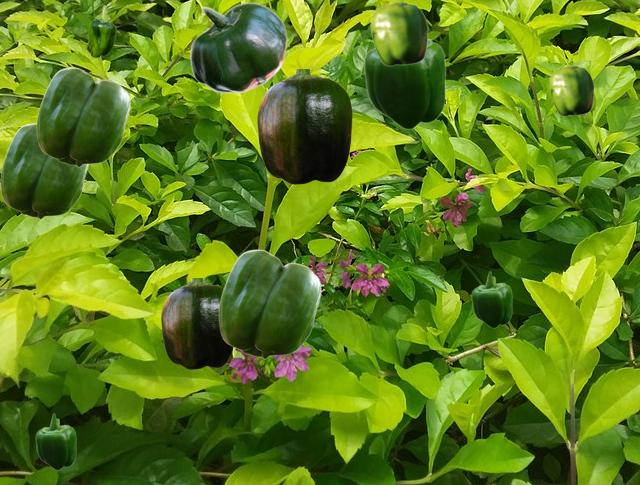bell_pepper: (218, 249, 320, 358), (257, 69, 351, 183), (36, 67, 129, 166), (189, 2, 286, 92), (0, 123, 88, 218), (363, 38, 445, 129), (161, 278, 233, 368), (370, 0, 427, 65), (549, 64, 593, 115), (471, 271, 511, 327), (35, 413, 75, 469), (86, 5, 115, 56)
